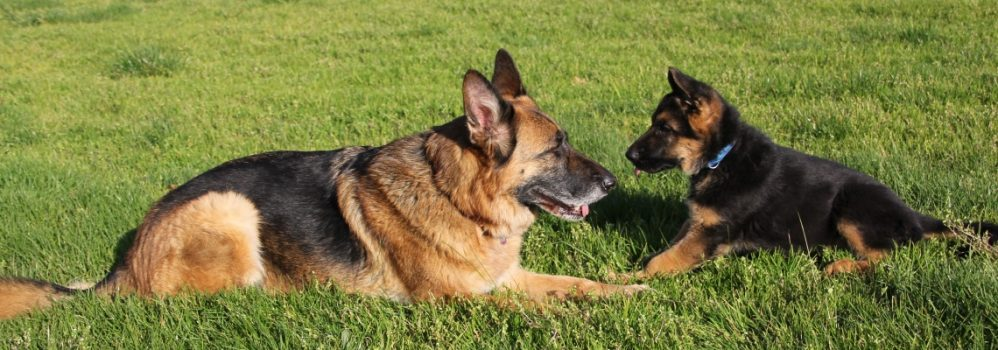dog: (82, 52, 638, 311), (621, 57, 975, 288)
